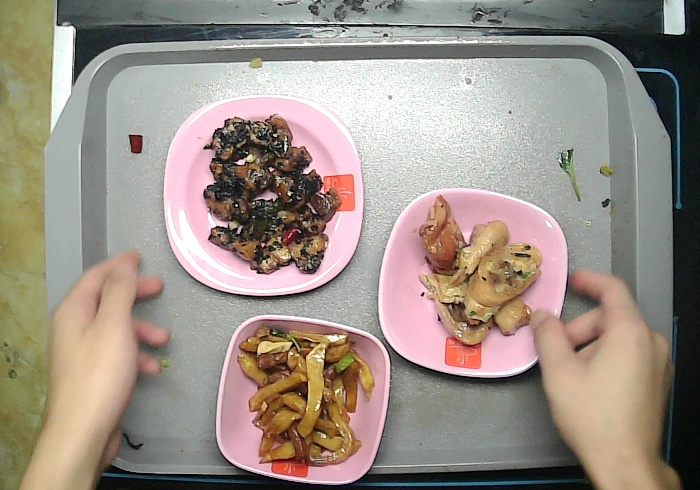SHKJ-Fen_Se_Cai_Die: (378, 186, 569, 380)
SHKJ-Fen_Se_Si_Fang_Cai_Die: (163, 94, 363, 295)
SHKJ-Fen_Se_Xiao_Fang_Die: (213, 312, 392, 486)
